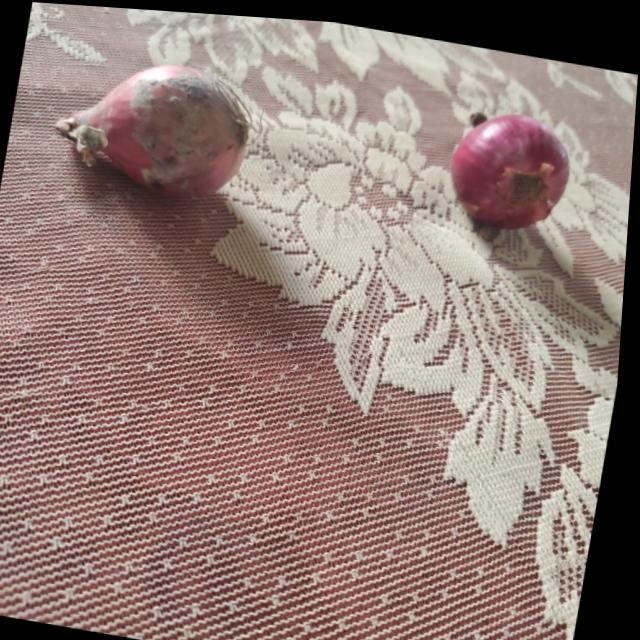onion: (71, 53, 258, 210), (443, 98, 580, 231)
